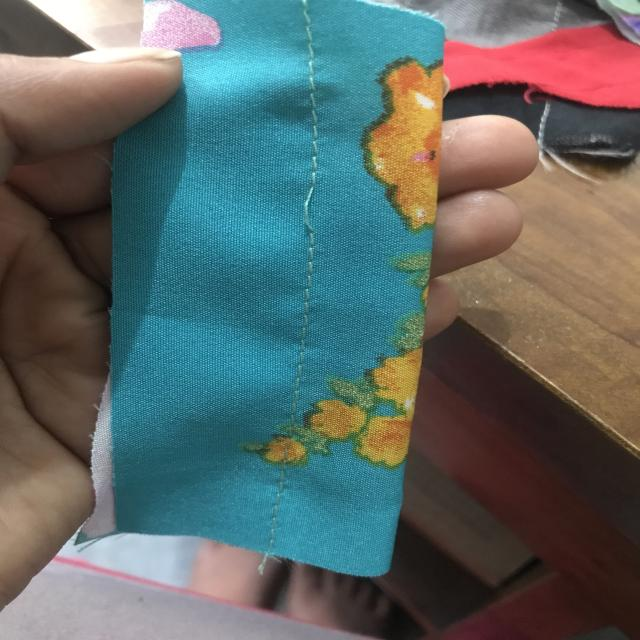skip: (298, 172, 329, 258)
